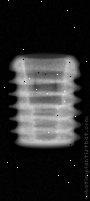Novodent: (10, 53, 82, 151)
